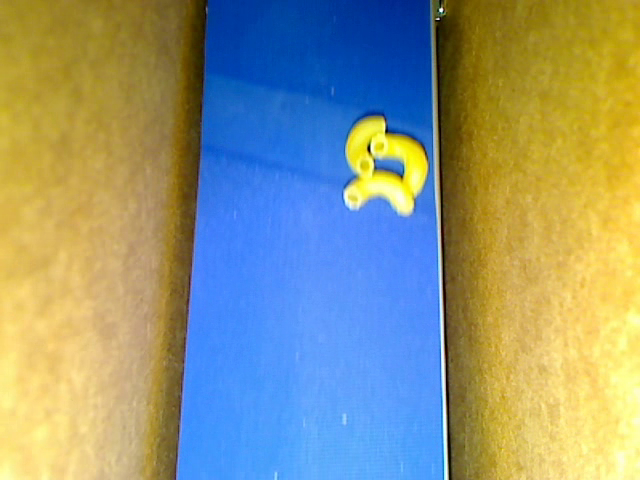elbow: (370, 134, 428, 198), (342, 170, 414, 215), (345, 115, 386, 178)
